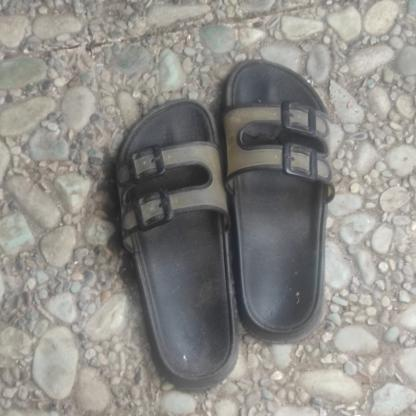Black Slide A: (112, 99, 241, 389), (226, 56, 340, 345)
